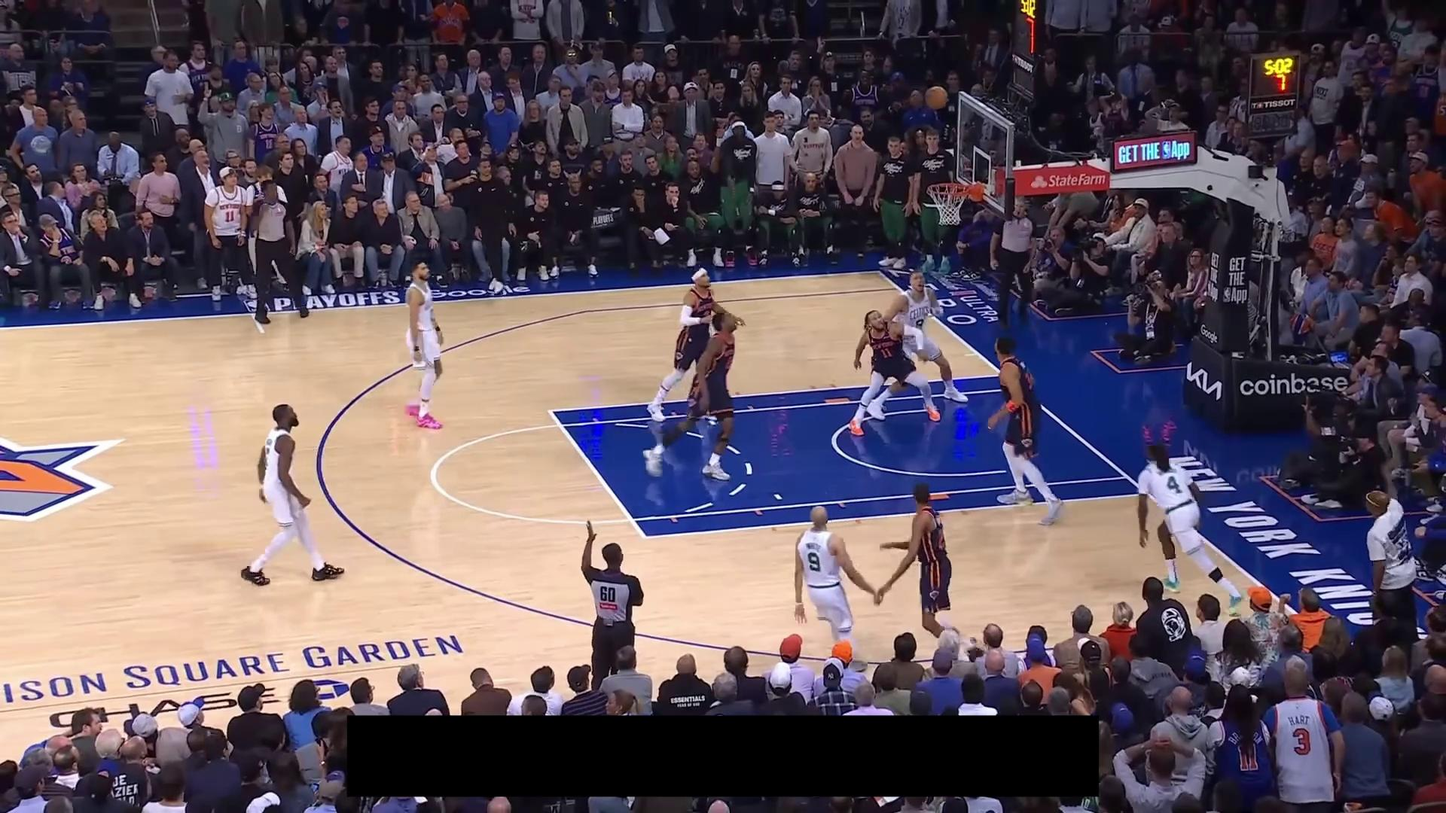ball: (924, 85, 948, 110)
number: (1166, 475, 1183, 495), (807, 551, 821, 572), (880, 346, 893, 359)
player: (1135, 436, 1248, 619), (239, 402, 346, 588), (874, 481, 980, 659), (643, 307, 743, 483), (646, 264, 747, 422), (865, 269, 970, 420), (789, 502, 880, 673), (987, 335, 1067, 528), (847, 307, 941, 438), (402, 257, 447, 431)
referee: (580, 517, 645, 692), (247, 180, 310, 324), (989, 197, 1039, 332)
rim: (926, 182, 970, 196)
